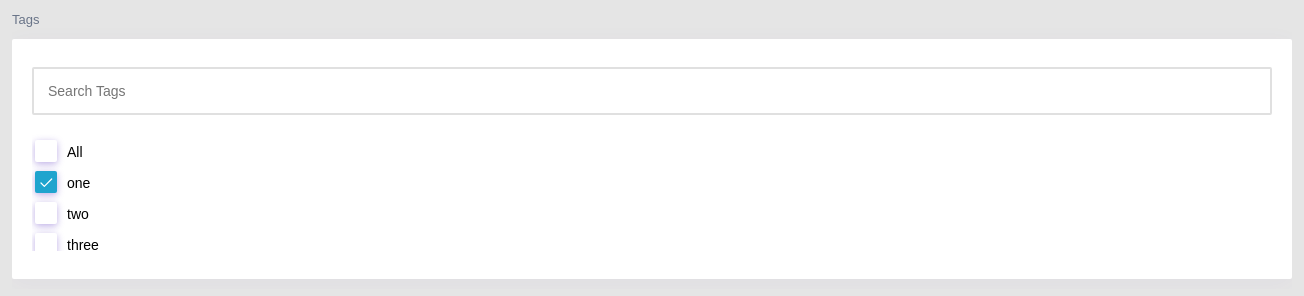
CheckListFilter Component › filter the list
Type "th" into the field with placeholder "Search Tags" at coordinates (652, 91), box [32,67,1272,115]
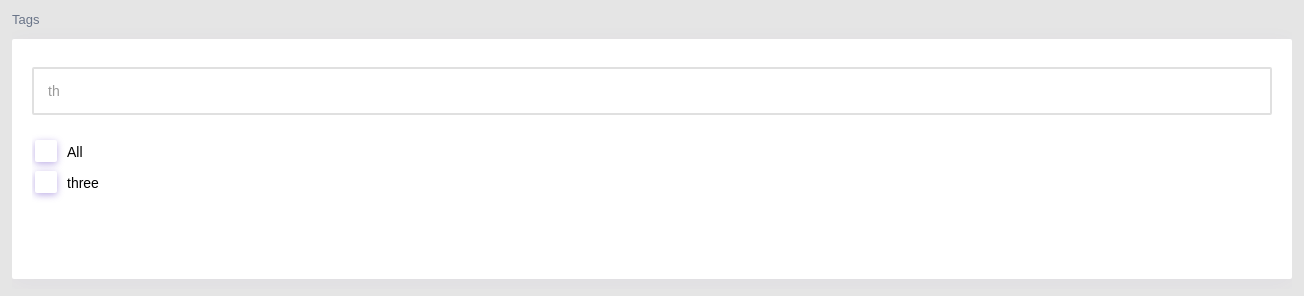
Now the number of elements with class "checkbox" is 2, box [35,140,57,162]; [35,171,57,193]
